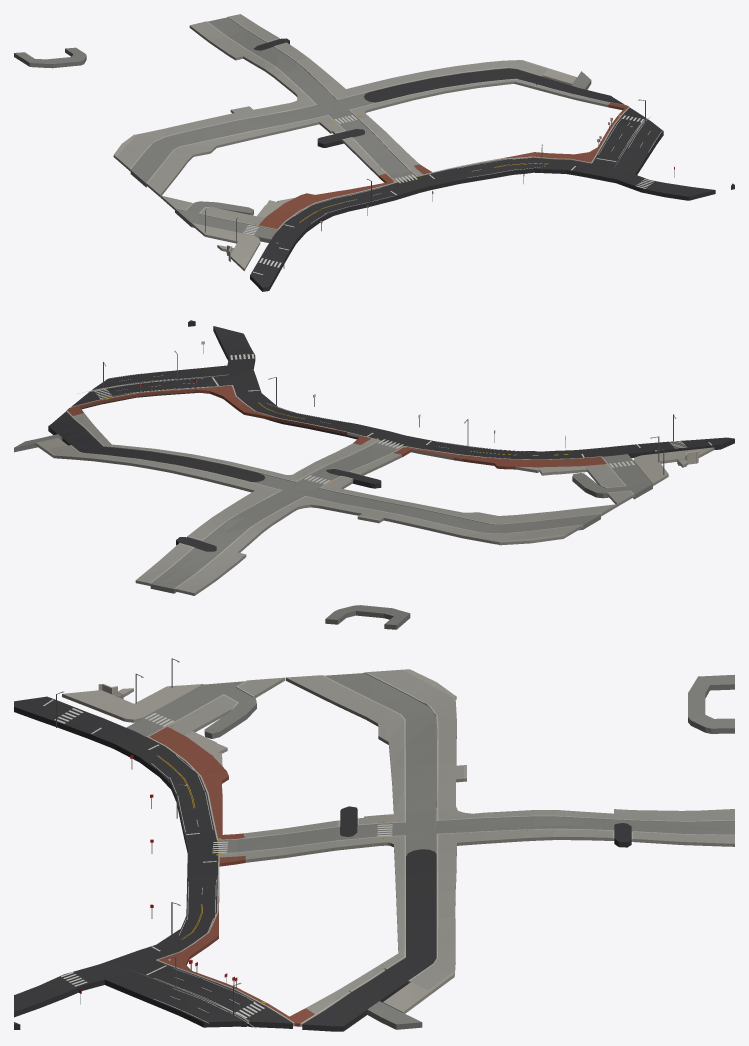
3 renders of one model, top to bottom at view 1: azimuth 30°, elevation 25°; view 2: azimuth 150°, elevation 25°; view 3: azimuth 270°, elevation 25°, orthographic. The views are drawn at different scales.
Bounding box in the file's own units: 149 × 15.25 × 146.
